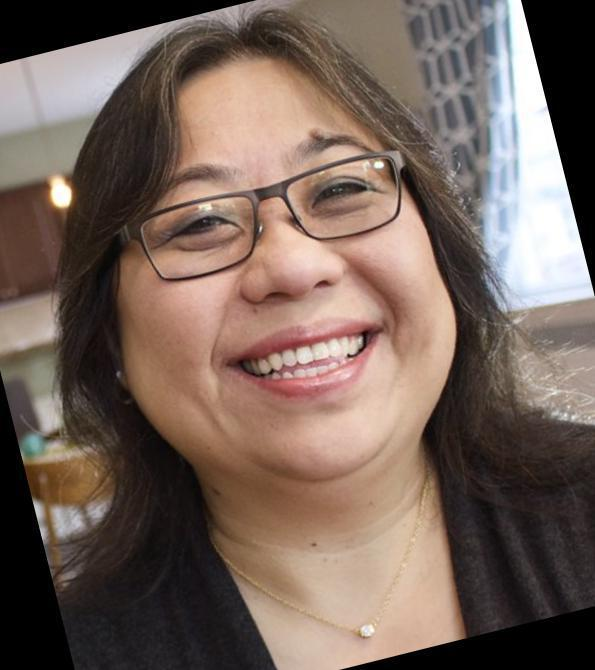Sober: (133, 82, 439, 445)
